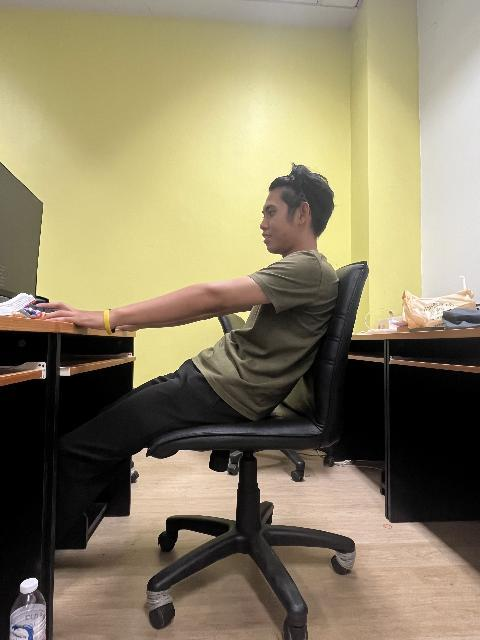bad-pose: (0, 0, 480, 640)
